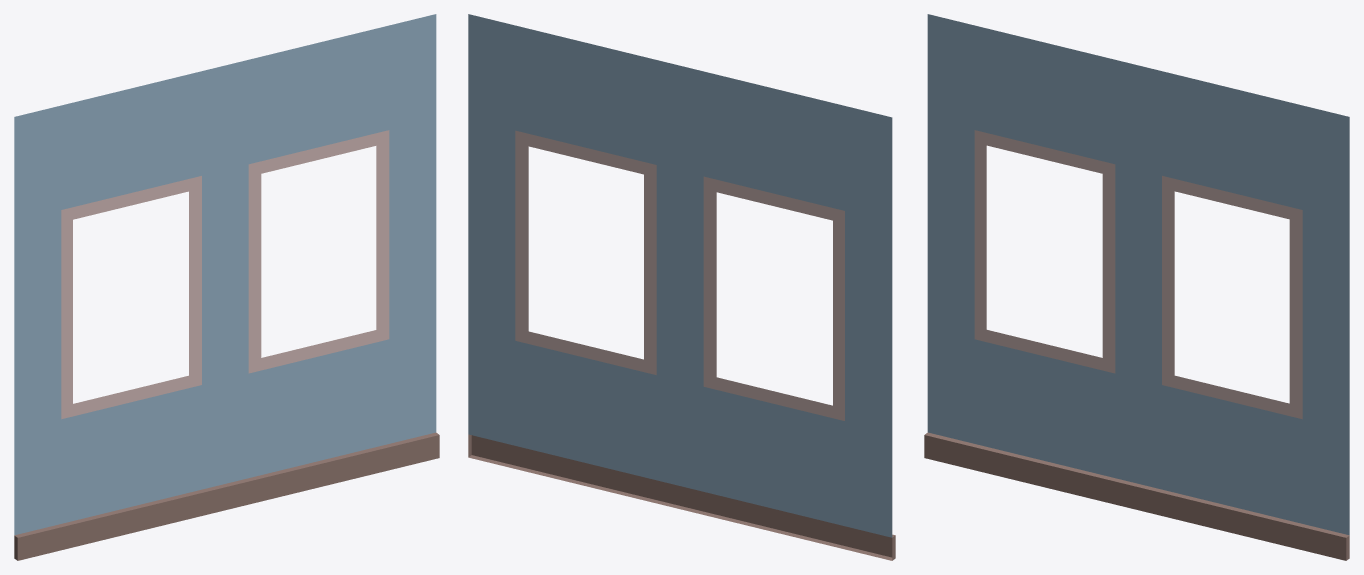
Rendered from wall window2.fbx.
3 renders of one model, left to right at view 1: azimuth 30°, elevation 25°; view 2: azimuth 150°, elevation 25°; view 3: azimuth 330°, elevation 25°, orthographic.
Parts seen in each view (by area): view 1: wall window 2; view 2: wall window 2; view 3: wall window 2.
Part boxes in pixels (bbox=[...]): wall window 2: bbox=[14, 14, 439, 560]; wall window 2: bbox=[468, 14, 895, 560]; wall window 2: bbox=[924, 14, 1349, 560].
Size of the model in its own units: 6 by 6 by 0.0848.
